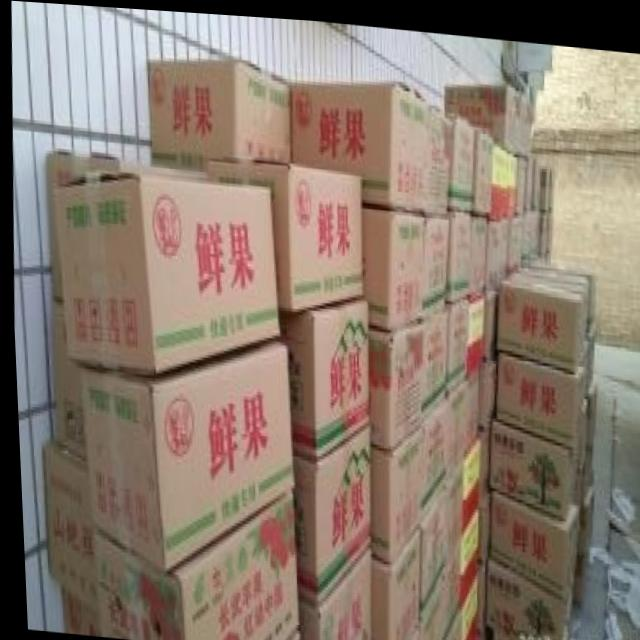box: (75, 335, 289, 574), (50, 162, 278, 373), (86, 484, 293, 640), (208, 155, 361, 310), (289, 78, 432, 212), (147, 57, 291, 169), (288, 415, 368, 605), (275, 290, 366, 457), (484, 484, 574, 595), (39, 437, 93, 615), (494, 263, 584, 367), (493, 345, 584, 445), (484, 412, 571, 511), (360, 197, 424, 324), (481, 547, 568, 640), (366, 417, 419, 559), (416, 455, 458, 631), (365, 316, 420, 446), (293, 543, 366, 640), (443, 76, 532, 151), (366, 518, 416, 640), (417, 387, 452, 515), (419, 303, 445, 417), (455, 431, 476, 571), (420, 210, 447, 316), (447, 369, 476, 466), (448, 110, 474, 204), (443, 205, 470, 295), (429, 99, 450, 208), (443, 291, 466, 384), (455, 546, 476, 640), (481, 210, 507, 285), (463, 283, 483, 377), (473, 120, 493, 205), (491, 136, 509, 214), (470, 210, 486, 291), (507, 149, 517, 210)
